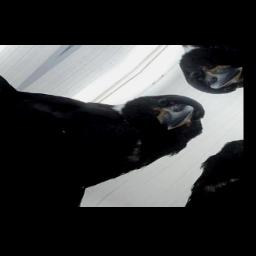Crow: (0, 48, 230, 203)
